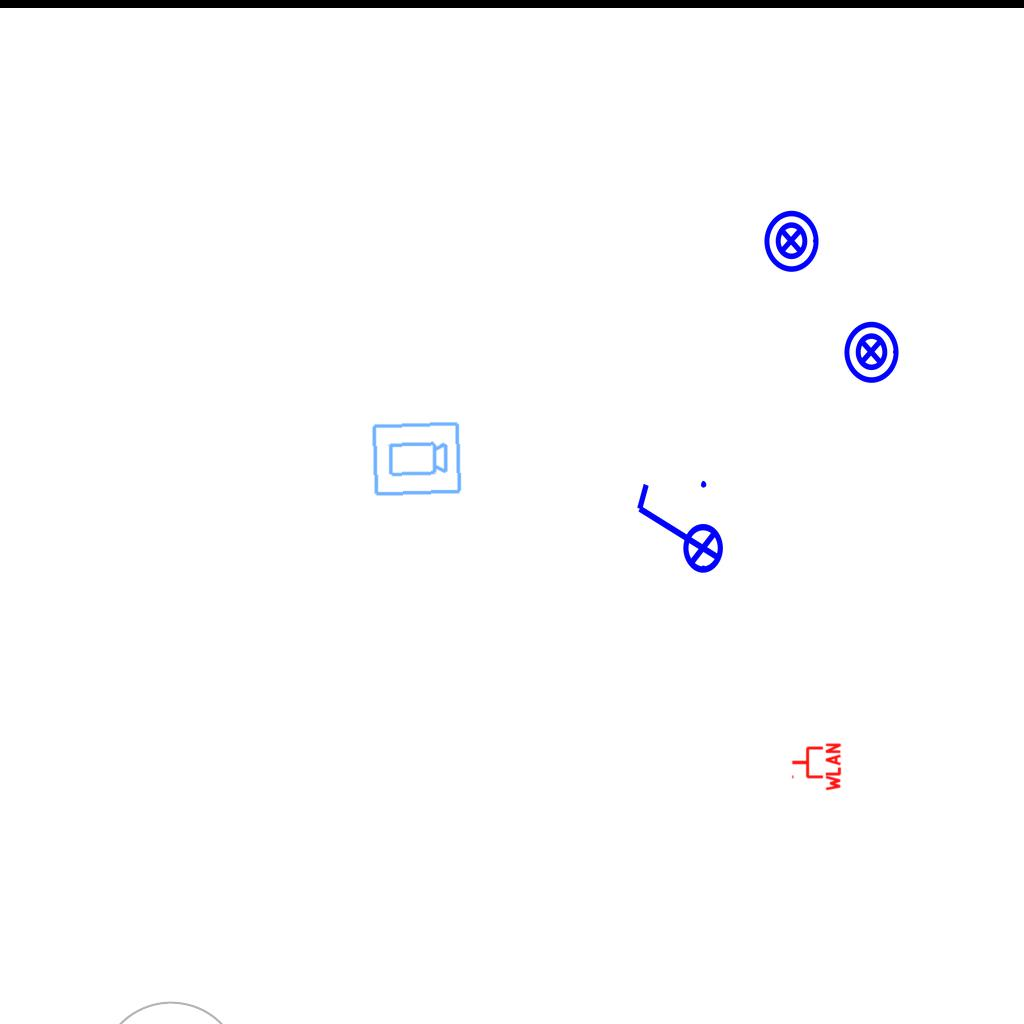Ausschalter_beleuchtet: (629, 475, 725, 587)
KFO_Kamera_mit_Festobjektiv: (369, 419, 464, 500)
Taster_beleuchtet: (758, 208, 824, 274), (838, 319, 904, 385)
WLAN: (790, 741, 842, 793)
